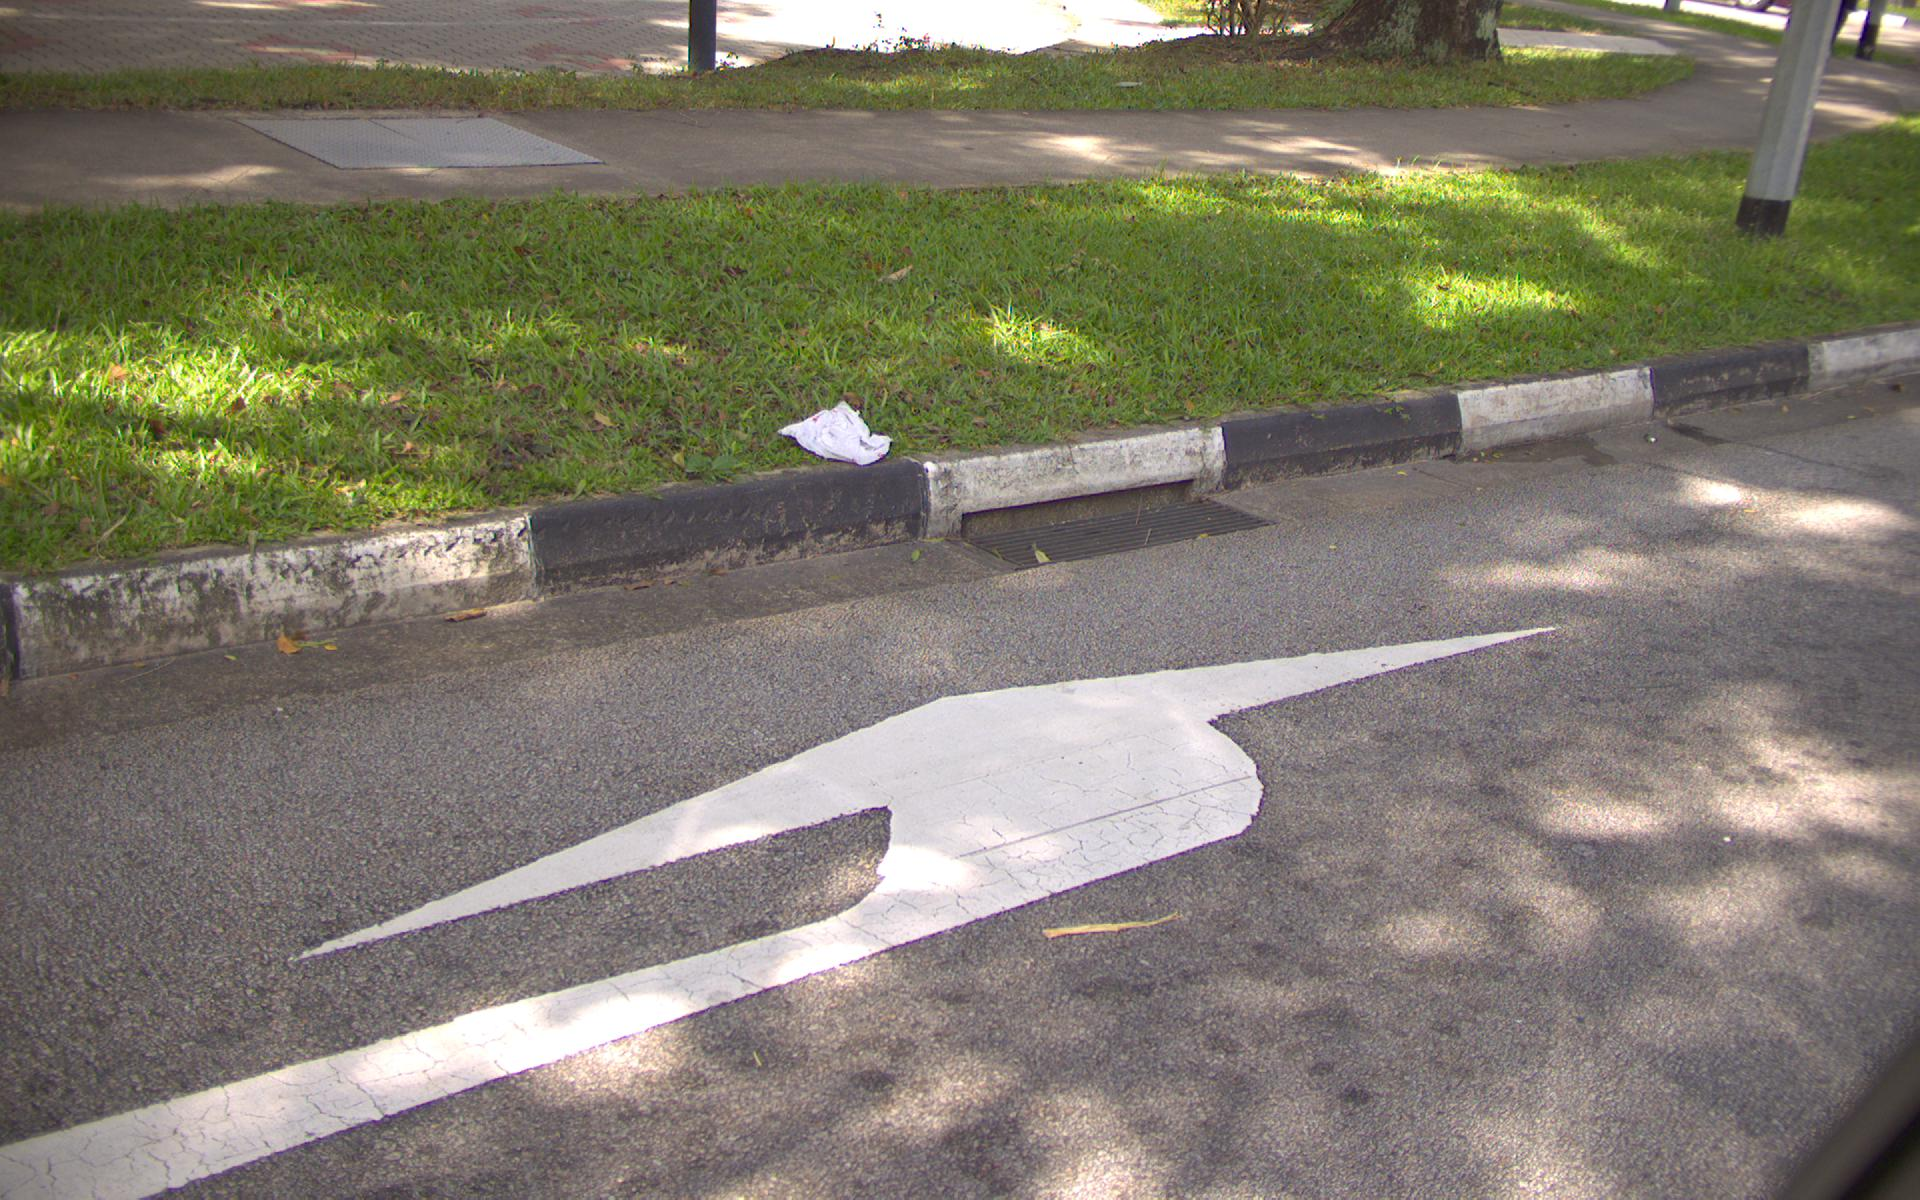curb_dic_low: (910, 438, 1297, 568)
pathway_low: (8, 113, 1082, 188)
road_turf_low: (10, 203, 751, 453), (789, 192, 1684, 373)
